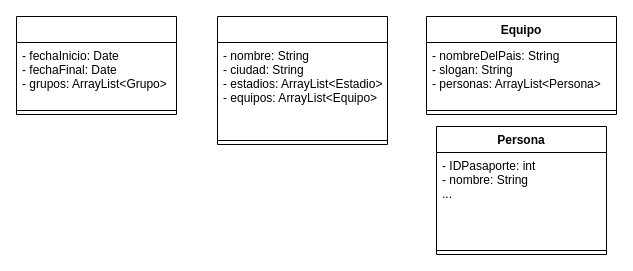
The diagram is 633 pixels wide and 271 high, and some of its shapes have lost their labels. The box of each missing label's shape, as (x1, y1, x2, y2) in pixels:
Grupo: (216, 16, 388, 144)
Torneo: (16, 16, 176, 114)
